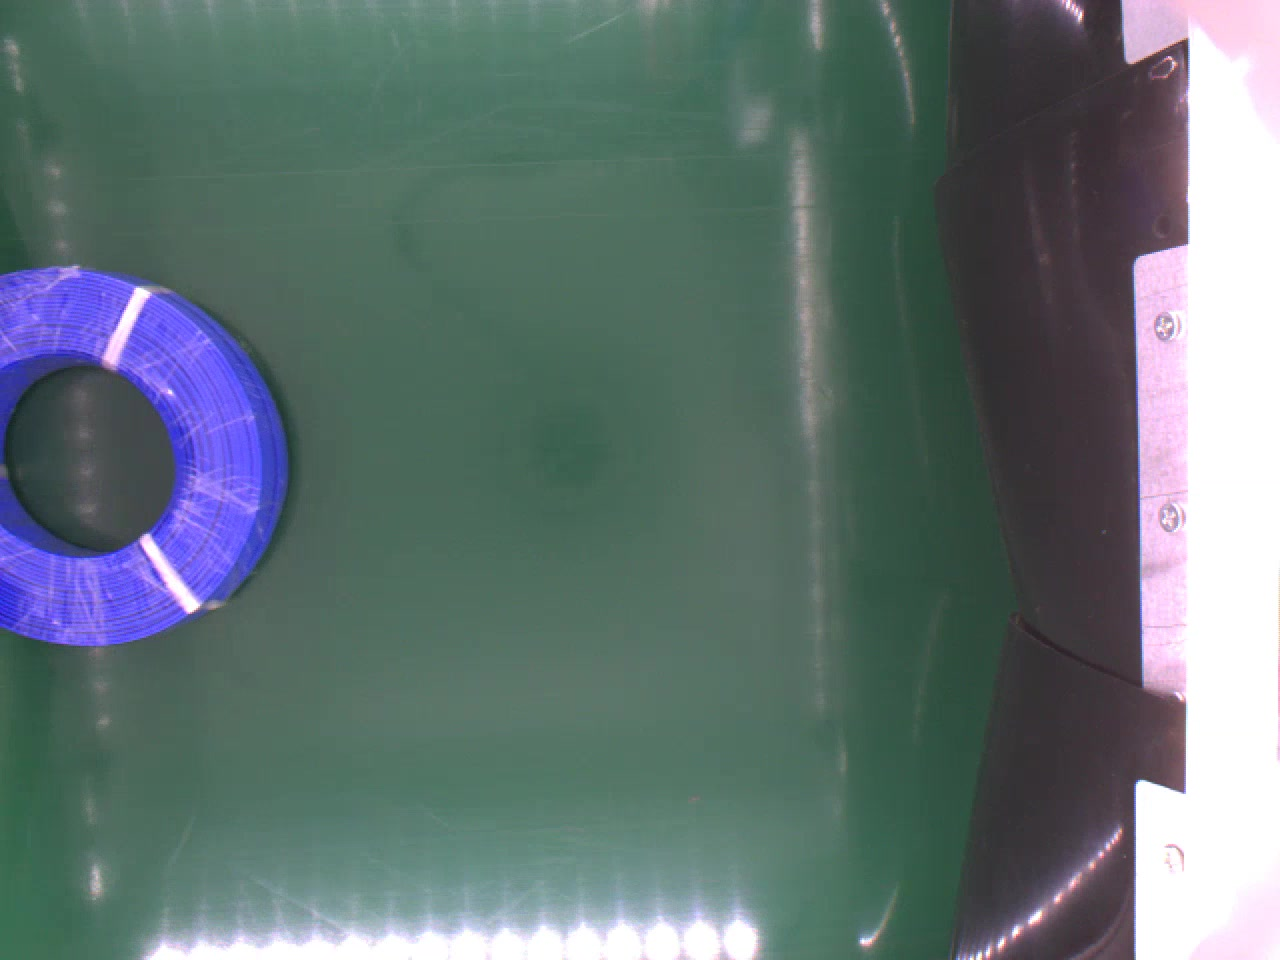blue: (0, 265, 292, 649)
